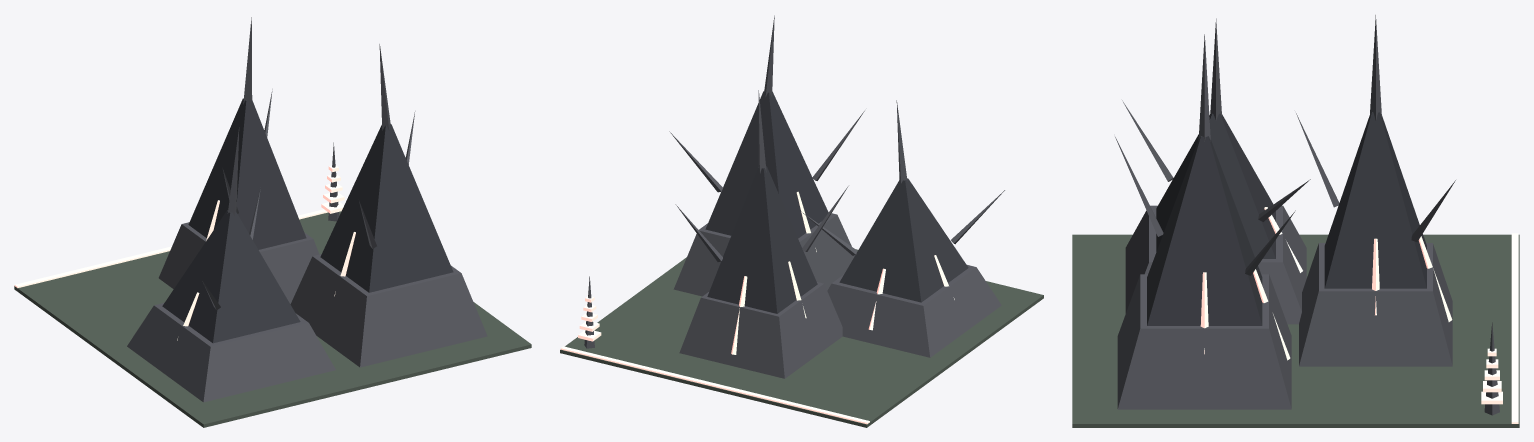
The model's file is zone_low_1_t5.glb.
3 views of the same model, side by side, from view 1: azimuth 30°, elevation 25°; view 2: azimuth 150°, elevation 25°; view 3: azimuth 270°, elevation 25° (orthographic). The views are drawn at different scales.
Visible parts, largest first — view 1: zone_low_1_t5, detail; view 2: zone_low_1_t5, detail; view 3: zone_low_1_t5, detail.
Boxes of the visible parts, bbox=[...] form: zone_low_1_t5: bbox=[14, 17, 531, 427]; detail: bbox=[14, 89, 415, 340]; zone_low_1_t5: bbox=[560, 15, 1043, 427]; detail: bbox=[560, 111, 1004, 424]; zone_low_1_t5: bbox=[1072, 15, 1519, 427]; detail: bbox=[1115, 100, 1518, 423].
Bounding box in the file's own units: 19.6 × 16.48 × 19.6.
